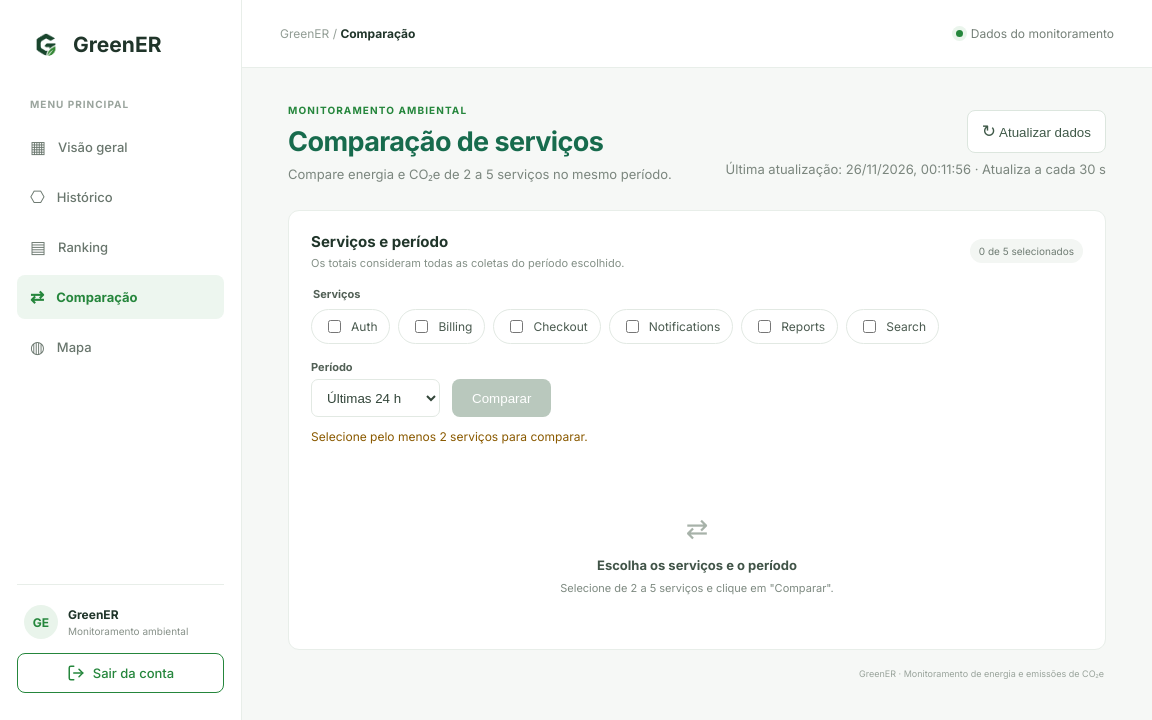
Scenario: erro da API mostra o estado de erro com tentar de novo
The width and height of the screenshot is (1152, 720).
Click the checkbox labelled "Auth": (335, 326) [328,320,341,333]
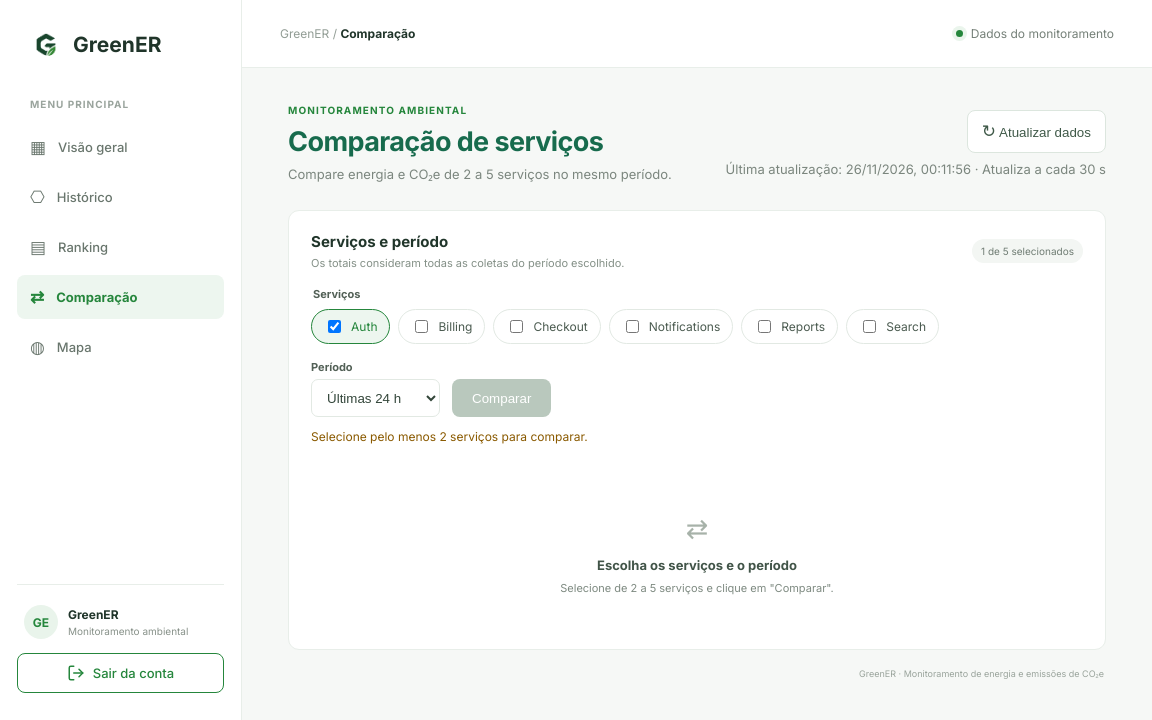
Click the checkbox labelled "Billing": (422, 326) [416,320,428,333]
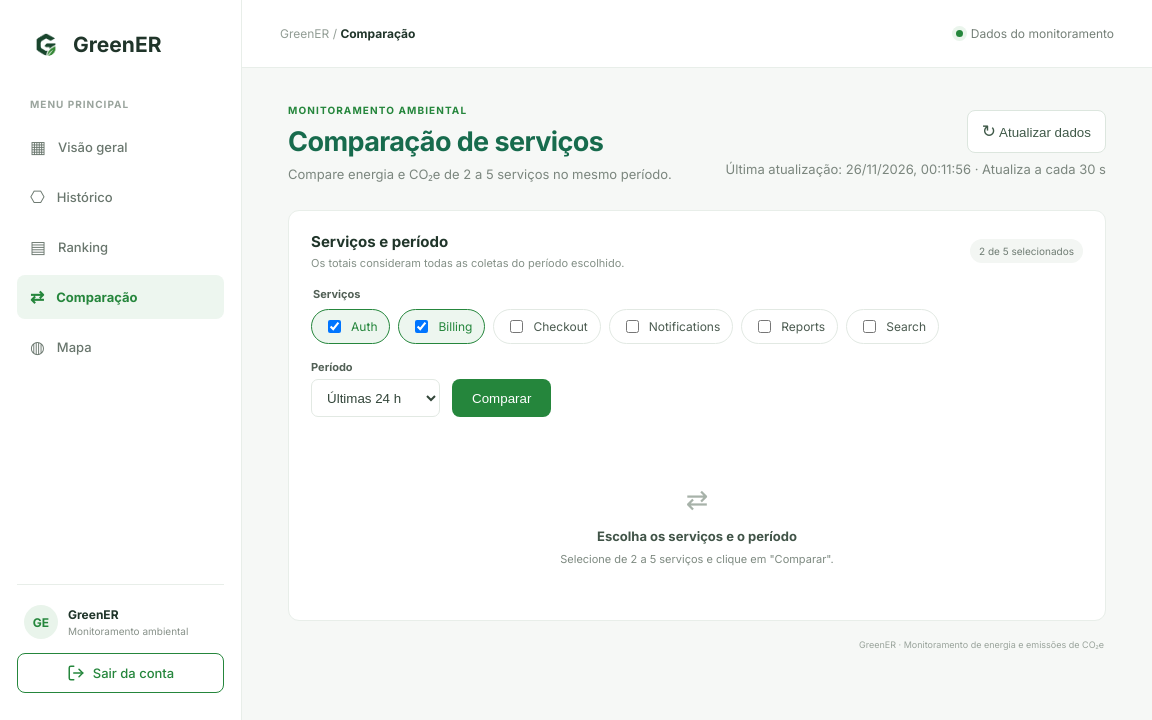
Click the button "Comparar": (502, 398) [452,379,551,417]
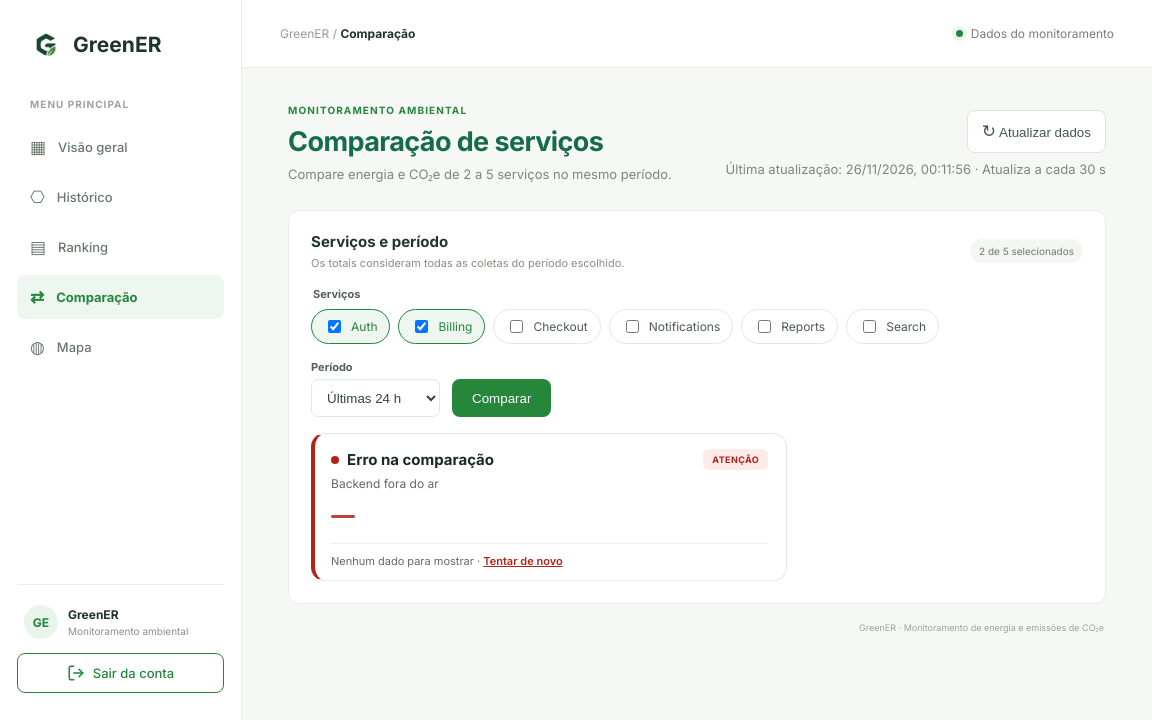
expect the text "Backend fora do ar" is shown: met, box [331,476,439,491]
expect the button "Tentar de novo" is enabled: met, box [483,554,563,568]
